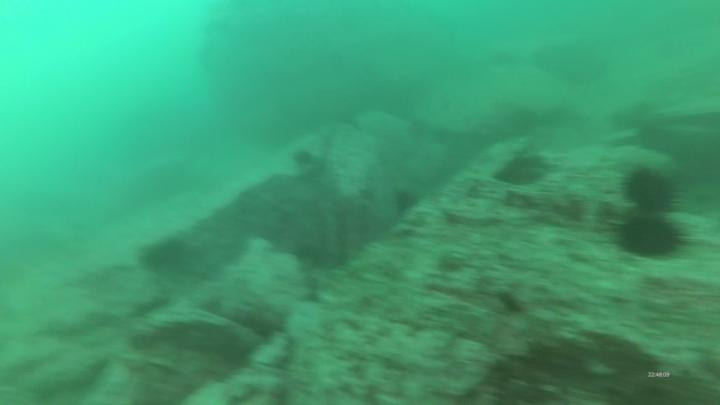echinus: (614, 213, 689, 262), (619, 164, 683, 218), (138, 236, 200, 277), (391, 189, 424, 218), (290, 146, 317, 172)
